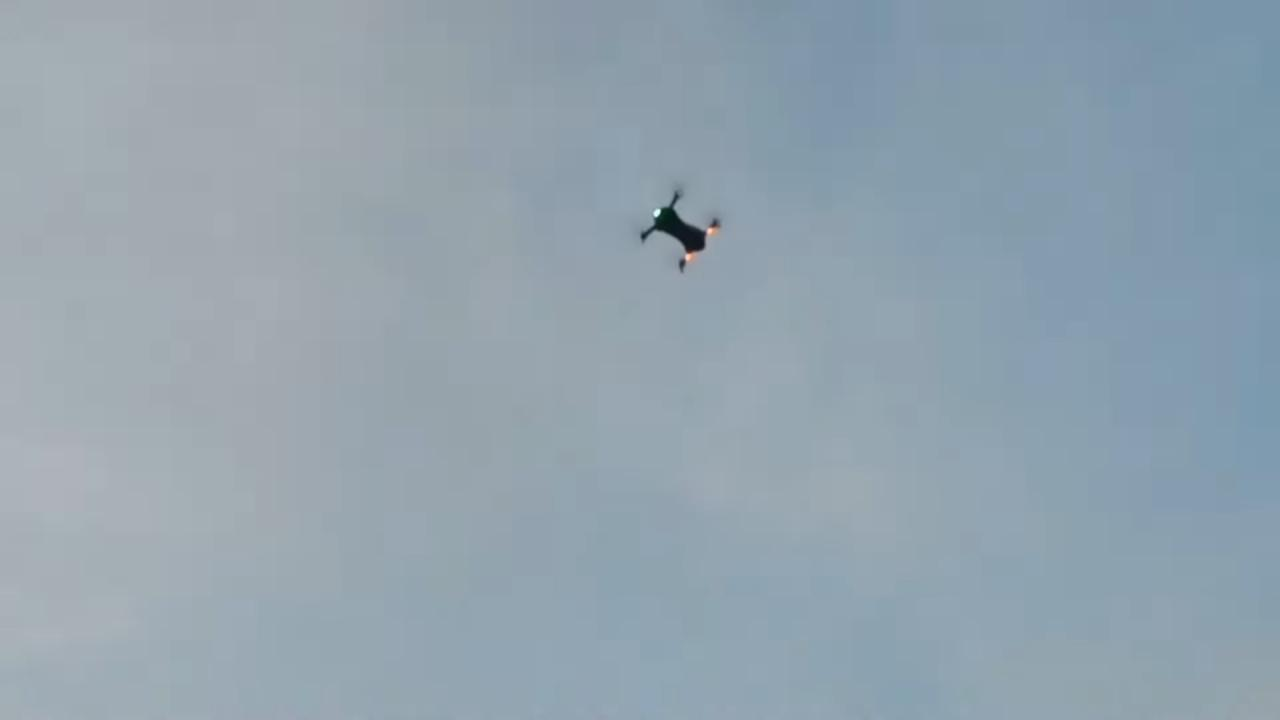Drone: (618, 172, 746, 284)
